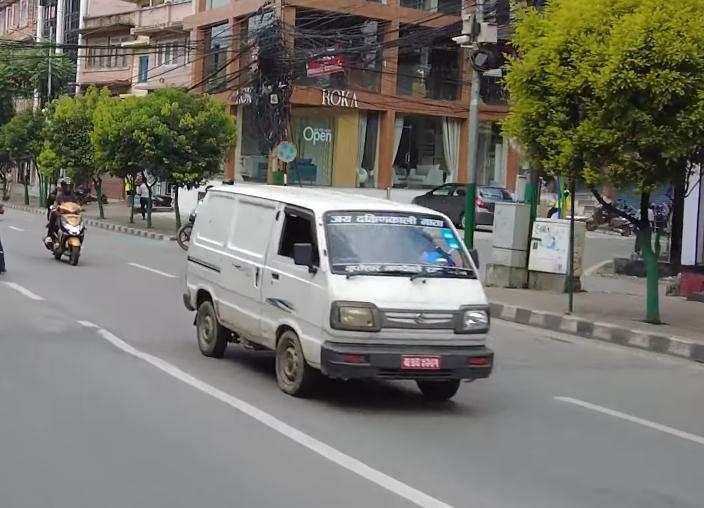car: (413, 179, 515, 230)
scooter: (41, 198, 85, 267)
van: (185, 177, 498, 403)
